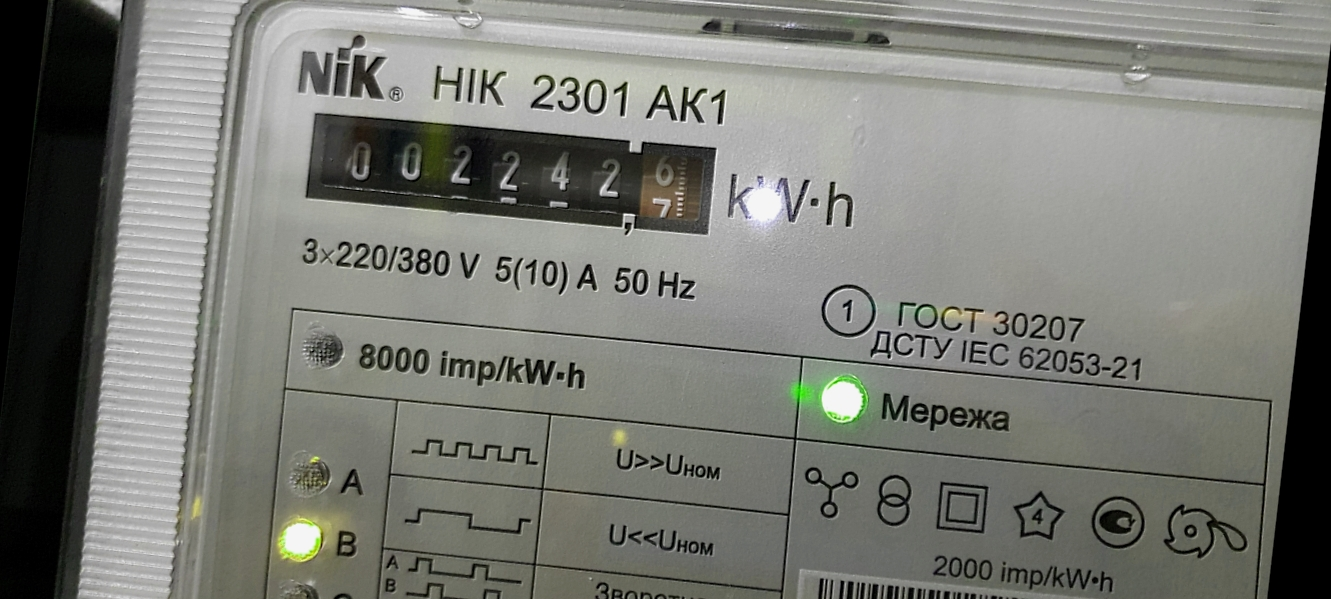0: (397, 138, 426, 183), (448, 142, 477, 187), (348, 137, 375, 184)
2: (595, 155, 625, 201), (497, 147, 525, 194)
4: (546, 147, 574, 193)
6: (651, 153, 679, 188)
7: (648, 195, 674, 220)
screen: (293, 90, 736, 261)
